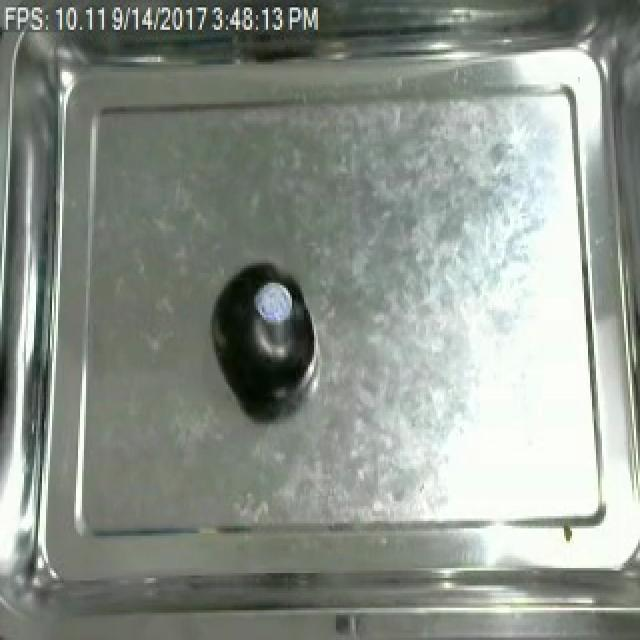Fruit: (208, 270, 316, 410)
